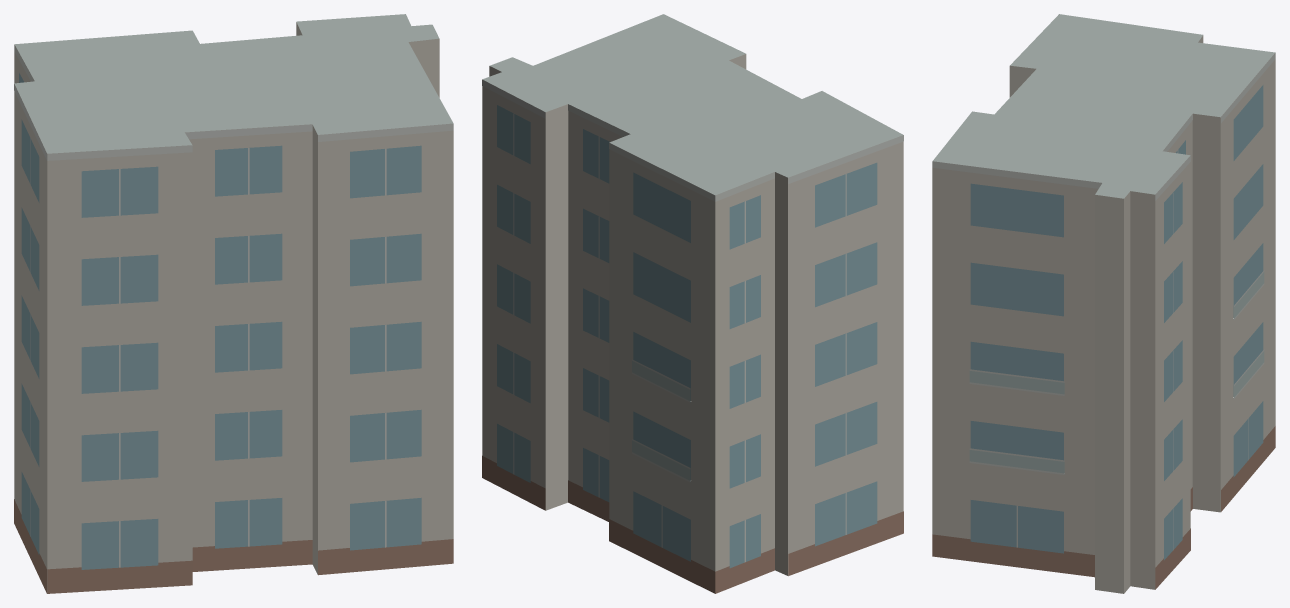
File: survey-upis-33038921.glb
The picture shows the model from 3 angles, left to right: view 1: azimuth 30°, elevation 25°; view 2: azimuth 150°, elevation 25°; view 3: azimuth 270°, elevation 25°; orthographic projection. The views are drawn at different scales.
Visible parts, largest first — view 1: survey-upis-33038921.tmp; view 2: survey-upis-33038921.tmp; view 3: survey-upis-33038921.tmp.
Boxes of the visible parts, <box> form: survey-upis-33038921.tmp: <box>14,14,453,593</box>; survey-upis-33038921.tmp: <box>482,14,903,593</box>; survey-upis-33038921.tmp: <box>932,14,1275,593</box>.
Size of the model in its own units: 15.02 by 14.98 by 11.8.
